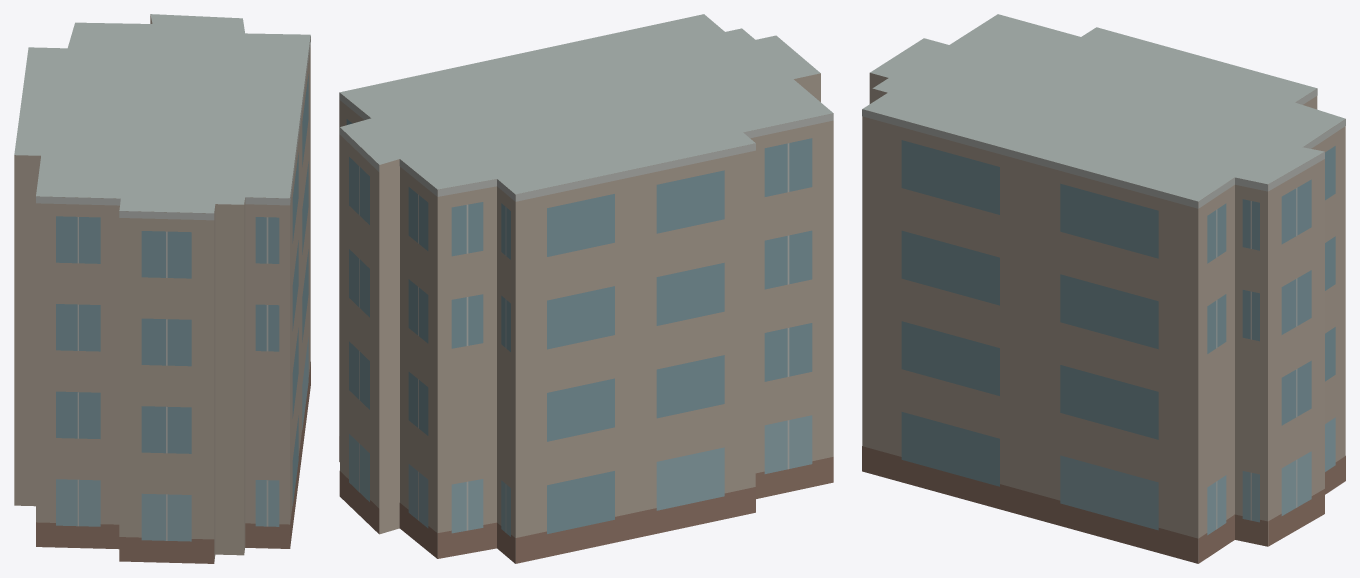
Rendered from survey-upis-32913730.glb.
3 renders of one model, left to right at view 1: azimuth 30°, elevation 25°; view 2: azimuth 150°, elevation 25°; view 3: azimuth 270°, elevation 25°, orthographic. The views are drawn at different scales.
Visible parts, largest first — view 1: survey-upis-32913730.tmp; view 2: survey-upis-32913730.tmp; view 3: survey-upis-32913730.tmp.
Part boxes in pixels (bbox=[...]): survey-upis-32913730.tmp: bbox=[14, 14, 310, 563]; survey-upis-32913730.tmp: bbox=[339, 14, 833, 563]; survey-upis-32913730.tmp: bbox=[862, 14, 1345, 563].
Bounding box in the file's own units: 13.55 × 12.2 × 14.77.
